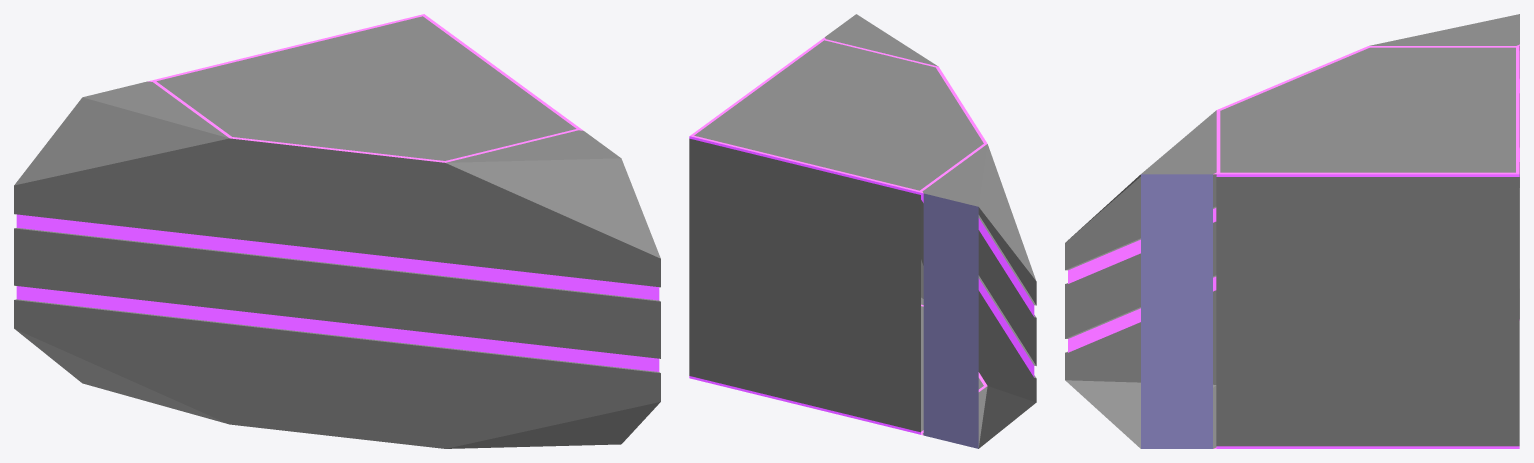
File: PlatformCornerSpecial01.FBX
3 renders of one model, left to right at view 1: azimuth 30°, elevation 25°; view 2: azimuth 150°, elevation 25°; view 3: azimuth 270°, elevation 25°, orthographic. The views are drawn at different scales.
Visible parts, largest first — view 1: PlatformCornerSpecial01; view 2: PlatformCornerSpecial01; view 3: PlatformCornerSpecial01.
Boxes of the visible parts, left/top/right/bottom form: PlatformCornerSpecial01: left=14, top=14, right=660, bottom=448; PlatformCornerSpecial01: left=689, top=14, right=1036, bottom=448; PlatformCornerSpecial01: left=1065, top=14, right=1519, bottom=448.
Size of the model in its own units: 150 by 150 by 100.
